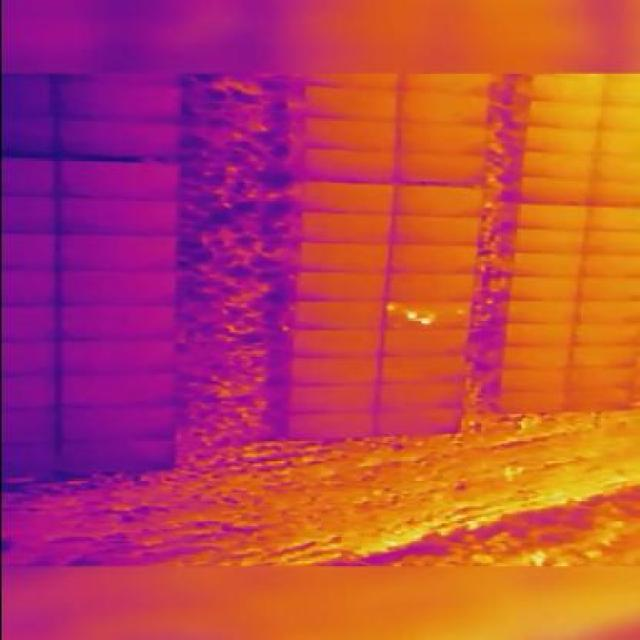hotspot: (420, 317, 434, 328), (381, 302, 394, 312), (403, 311, 415, 320)
